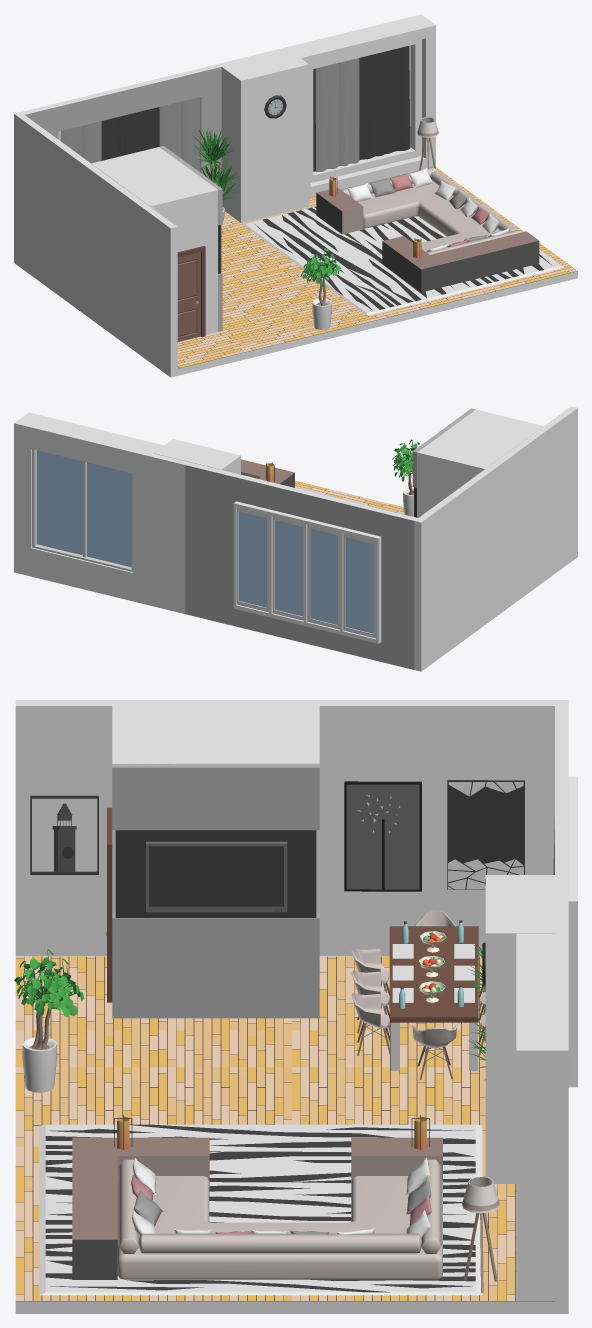
Rendered from room_16.glb.
3 views of the same model, one above another, from view 1: azimuth 30°, elevation 25°; view 2: azimuth 150°, elevation 25°; view 3: azimuth 270°, elevation 25° (orthographic). The views are drawn at different scales.
Visible parts, largest first — view 1: Walls_006.081, Walls_003.016, sofa_018.001, carpet_005.002, Walls_003.015, Walls_011.009, Curtains_028.003, floor_011.004, floor_011.006, Curtains_023.005, Walls_192.014, Walls_003.018 (+19 smaller); view 2: Walls_006.081, window_011.003, window_029.003, Walls_006.002, Walls_192.016, Walls_003.015, Walls_192.013, Walls_192.014, Walls_006.093, Walls_006.082, Walls_006.094, Walls_192.015 (+6 smaller); view 3: Walls_006.081, sofa_018.001, carpet_005.002, Walls_188.029, Walls_011.009, floor_011.004, floor_011.006, Walls_188.028, Walls_003.015, Walls_003.016, floor_011.005, electronics_034.006 (+22 smaller).
Part boxes in pixels (bbox=[...]): Walls_006.081: bbox=[14, 112, 177, 377]; Walls_003.016: bbox=[221, 50, 308, 222]; sofa_018.001: bbox=[316, 167, 539, 292]; carpet_005.002: bbox=[242, 206, 563, 315]; Walls_003.015: bbox=[91, 147, 217, 334]; Walls_011.009: bbox=[177, 169, 577, 375]; Curtains_028.003: bbox=[313, 46, 410, 171]; floor_011.004: bbox=[228, 263, 441, 336]; floor_011.006: bbox=[177, 280, 305, 368]; Curtains_023.005: bbox=[315, 58, 359, 171]; Walls_192.014: bbox=[55, 69, 201, 131]; Walls_003.018: bbox=[290, 17, 435, 66]; Walls_006.081: bbox=[414, 406, 577, 671]; window_011.003: bbox=[233, 501, 381, 643]; window_029.003: bbox=[32, 449, 132, 571]; Walls_006.002: bbox=[132, 449, 188, 613]; Walls_192.016: bbox=[185, 462, 241, 626]; Walls_003.015: bbox=[417, 409, 543, 517]; Walls_192.013: bbox=[380, 510, 417, 669]; Walls_192.014: bbox=[238, 475, 383, 536]; Walls_006.093: bbox=[31, 547, 132, 601]; Walls_006.082: bbox=[14, 420, 34, 576]; Walls_006.094: bbox=[31, 424, 136, 473]; Walls_192.015: bbox=[238, 610, 380, 661]; Walls_006.081: bbox=[15, 700, 568, 956]; sofa_018.001: bbox=[72, 1114, 442, 1279]; carpet_005.002: bbox=[39, 1124, 482, 1295]; Walls_188.029: bbox=[112, 914, 319, 1018]; Walls_011.009: bbox=[15, 956, 554, 1313]; floor_011.004: bbox=[15, 1067, 291, 1183]; floor_011.006: bbox=[15, 956, 291, 1067]; Walls_188.028: bbox=[112, 763, 319, 830]; Walls_003.015: bbox=[112, 705, 319, 914]; Walls_003.016: bbox=[485, 875, 554, 1183]; floor_011.005: bbox=[292, 1067, 485, 1176]; electronics_034.006: bbox=[146, 841, 287, 912].
Bounding box in the file's own units: 12 × 4.21 × 8.16.
1 material, 1 textured.
